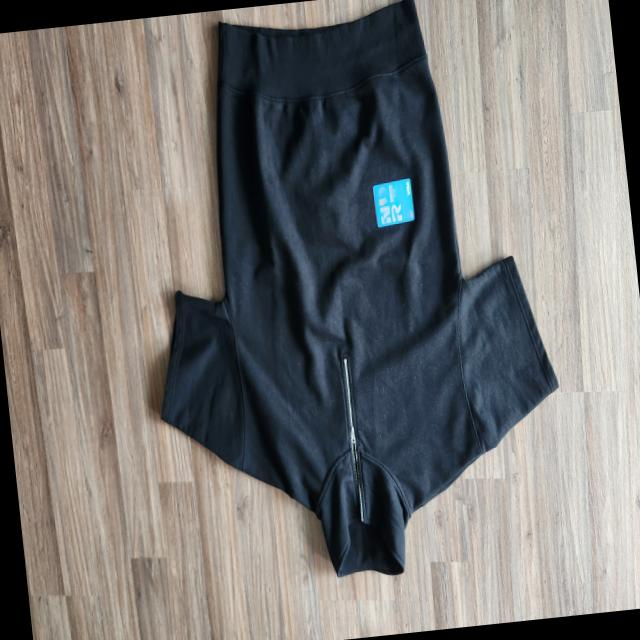card: (371, 176, 413, 226)
